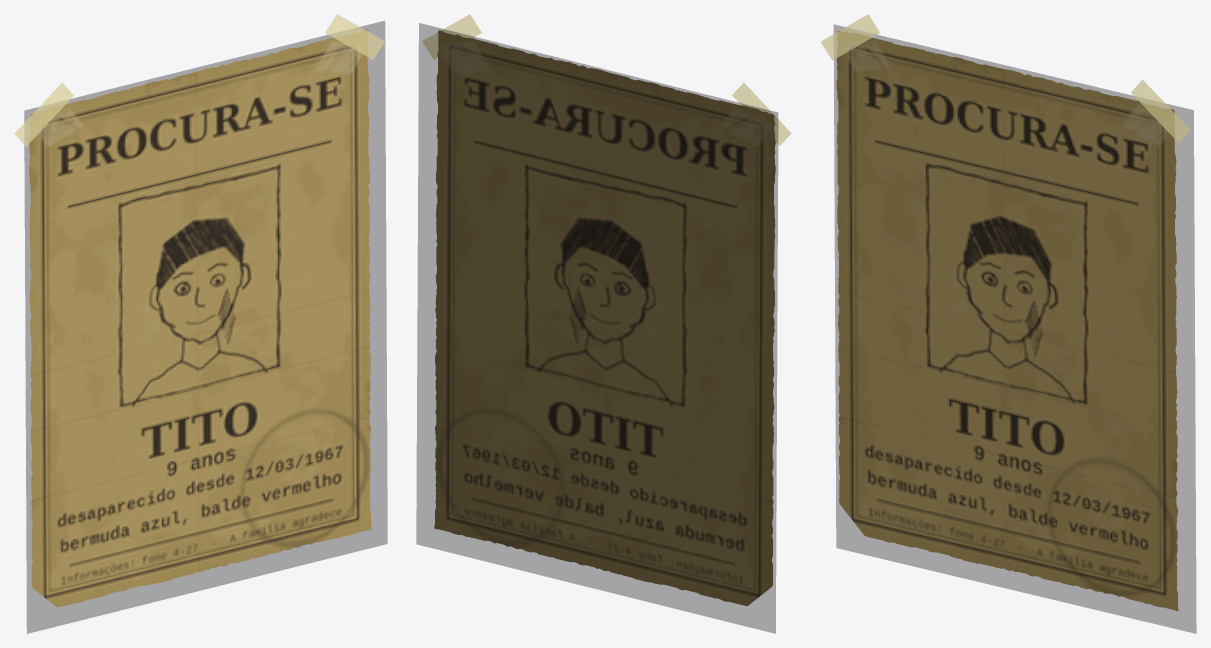
The model's file is cartaz_procura_se.glb.
3 renders of one model, left to right at view 1: azimuth 30°, elevation 25°; view 2: azimuth 150°, elevation 25°; view 3: azimuth 330°, elevation 25°, orthographic.
Visible parts, largest first — view 1: _MeshInstance3D_1889_2, _MeshInstance3D_1888_3, _MeshInstance3D_1890_1, _MeshInstance3D_1891_0; view 2: _MeshInstance3D_1888_3, _MeshInstance3D_1889_2, _MeshInstance3D_1891_0, _MeshInstance3D_1890_1; view 3: _MeshInstance3D_1889_2, _MeshInstance3D_1888_3, _MeshInstance3D_1891_0, _MeshInstance3D_1890_1.
Part boxes in pixels (left/top/right/bottom): _MeshInstance3D_1889_2: left=29, top=29, right=371, bottom=607; _MeshInstance3D_1888_3: left=24, top=21, right=387, bottom=633; _MeshInstance3D_1890_1: left=14, top=83, right=73, bottom=146; _MeshInstance3D_1891_0: left=325, top=14, right=384, bottom=59; _MeshInstance3D_1888_3: left=416, top=23, right=777, bottom=633; _MeshInstance3D_1889_2: left=434, top=30, right=775, bottom=605; _MeshInstance3D_1891_0: left=422, top=14, right=481, bottom=59; _MeshInstance3D_1890_1: left=732, top=82, right=791, bottom=146; _MeshInstance3D_1889_2: left=836, top=30, right=1178, bottom=611; _MeshInstance3D_1888_3: left=834, top=24, right=1196, bottom=633; _MeshInstance3D_1891_0: left=1131, top=79, right=1190, bottom=142; _MeshInstance3D_1890_1: left=821, top=14, right=879, bottom=60.
Size of the model in its own units: 0.6757 by 0.9394 by 0.005.
Materials: 3 (1 with a texture image).
